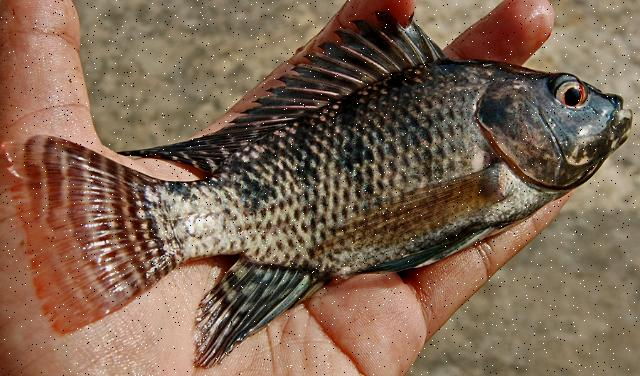Mulut: (554, 69, 640, 183)
Sirip Anal: (178, 235, 332, 376)
Sirip Dada: (259, 152, 525, 272)
Sirip Ekor: (0, 124, 186, 344)
Sirip Perut: (344, 206, 516, 292)
Sirip Punggung: (107, 1, 451, 188)
